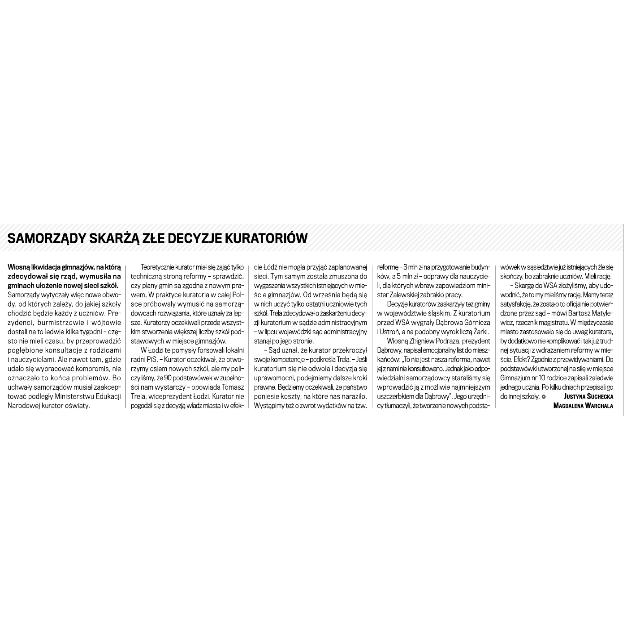author: (550, 392, 616, 411)
body: (250, 263, 370, 413), (129, 262, 247, 412), (374, 262, 492, 412), (497, 262, 615, 402), (7, 293, 123, 412)
lead: (7, 261, 123, 289)
title: (2, 228, 312, 248)
